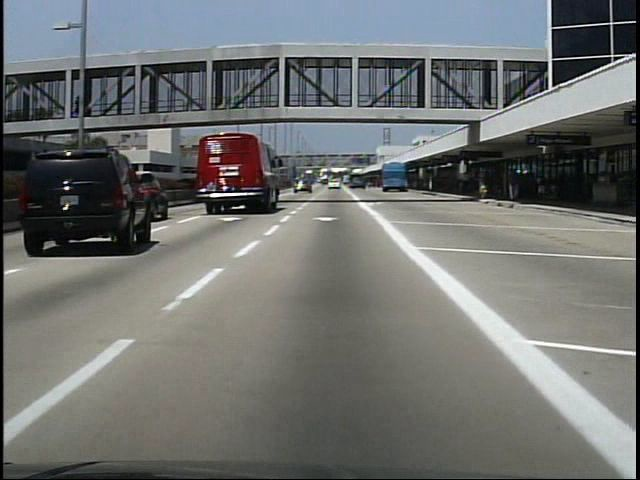person: (534, 170, 551, 205)
